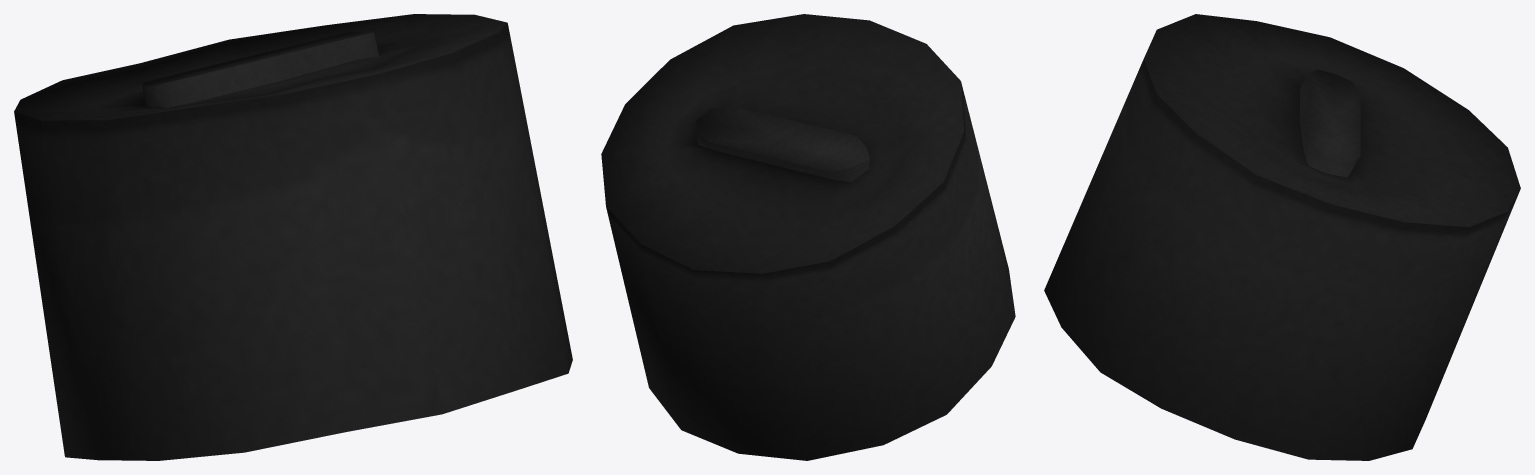
The model's file is YVR_d1_left_home.obj.
3 renders of one model, left to right at view 1: azimuth 30°, elevation 25°; view 2: azimuth 150°, elevation 25°; view 3: azimuth 270°, elevation 25°, orthographic. The views are drawn at different scales.
Visible parts, largest first — view 1: Object005; view 2: Object005; view 3: Object005.
Part boxes in pixels (x1=…): Object005: x1=14, y1=14, x2=572, y2=460; Object005: x1=601, y1=14, x2=1015, y2=460; Object005: x1=1044, y1=14, x2=1520, y2=460.
Size of the model in its own units: 0.0094 by 0.0092 by 0.011.
Materials: 1 (1 with a texture image).
